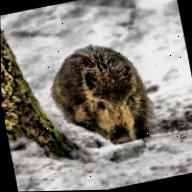boar: (41, 30, 158, 164)
